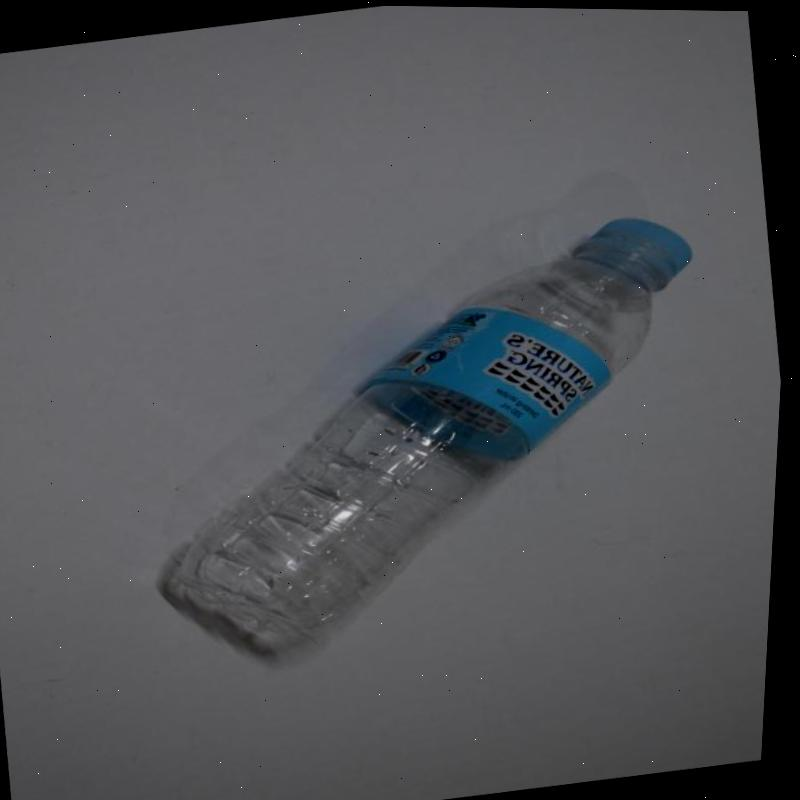botella: (121, 201, 744, 672)
